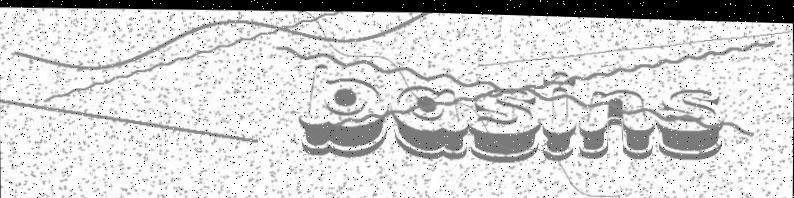a: (390, 81, 469, 159)
b: (295, 58, 390, 158)
i: (541, 66, 578, 160)
n: (577, 83, 656, 158)
s: (468, 83, 543, 163), (656, 82, 724, 157)
